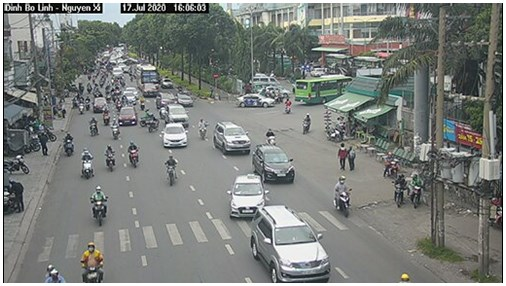di_bo: (8, 173, 27, 214), (37, 129, 51, 161), (335, 140, 347, 172), (347, 144, 358, 169)
xe_buyt: (289, 73, 354, 106), (132, 60, 159, 93)
xe_hoi: (242, 203, 333, 283), (250, 142, 297, 185), (226, 173, 266, 219), (213, 120, 249, 156), (234, 91, 275, 110), (161, 122, 187, 148), (161, 103, 187, 126), (116, 106, 138, 127)
xe_may: (77, 237, 107, 283), (330, 173, 357, 220), (89, 183, 112, 229), (161, 151, 184, 197), (405, 172, 430, 210), (124, 138, 146, 172), (100, 141, 122, 175), (75, 145, 96, 179), (391, 172, 407, 209), (43, 259, 63, 284), (60, 129, 75, 155), (86, 114, 101, 140), (194, 116, 209, 142), (298, 109, 313, 135), (262, 122, 277, 148), (282, 97, 293, 113)
